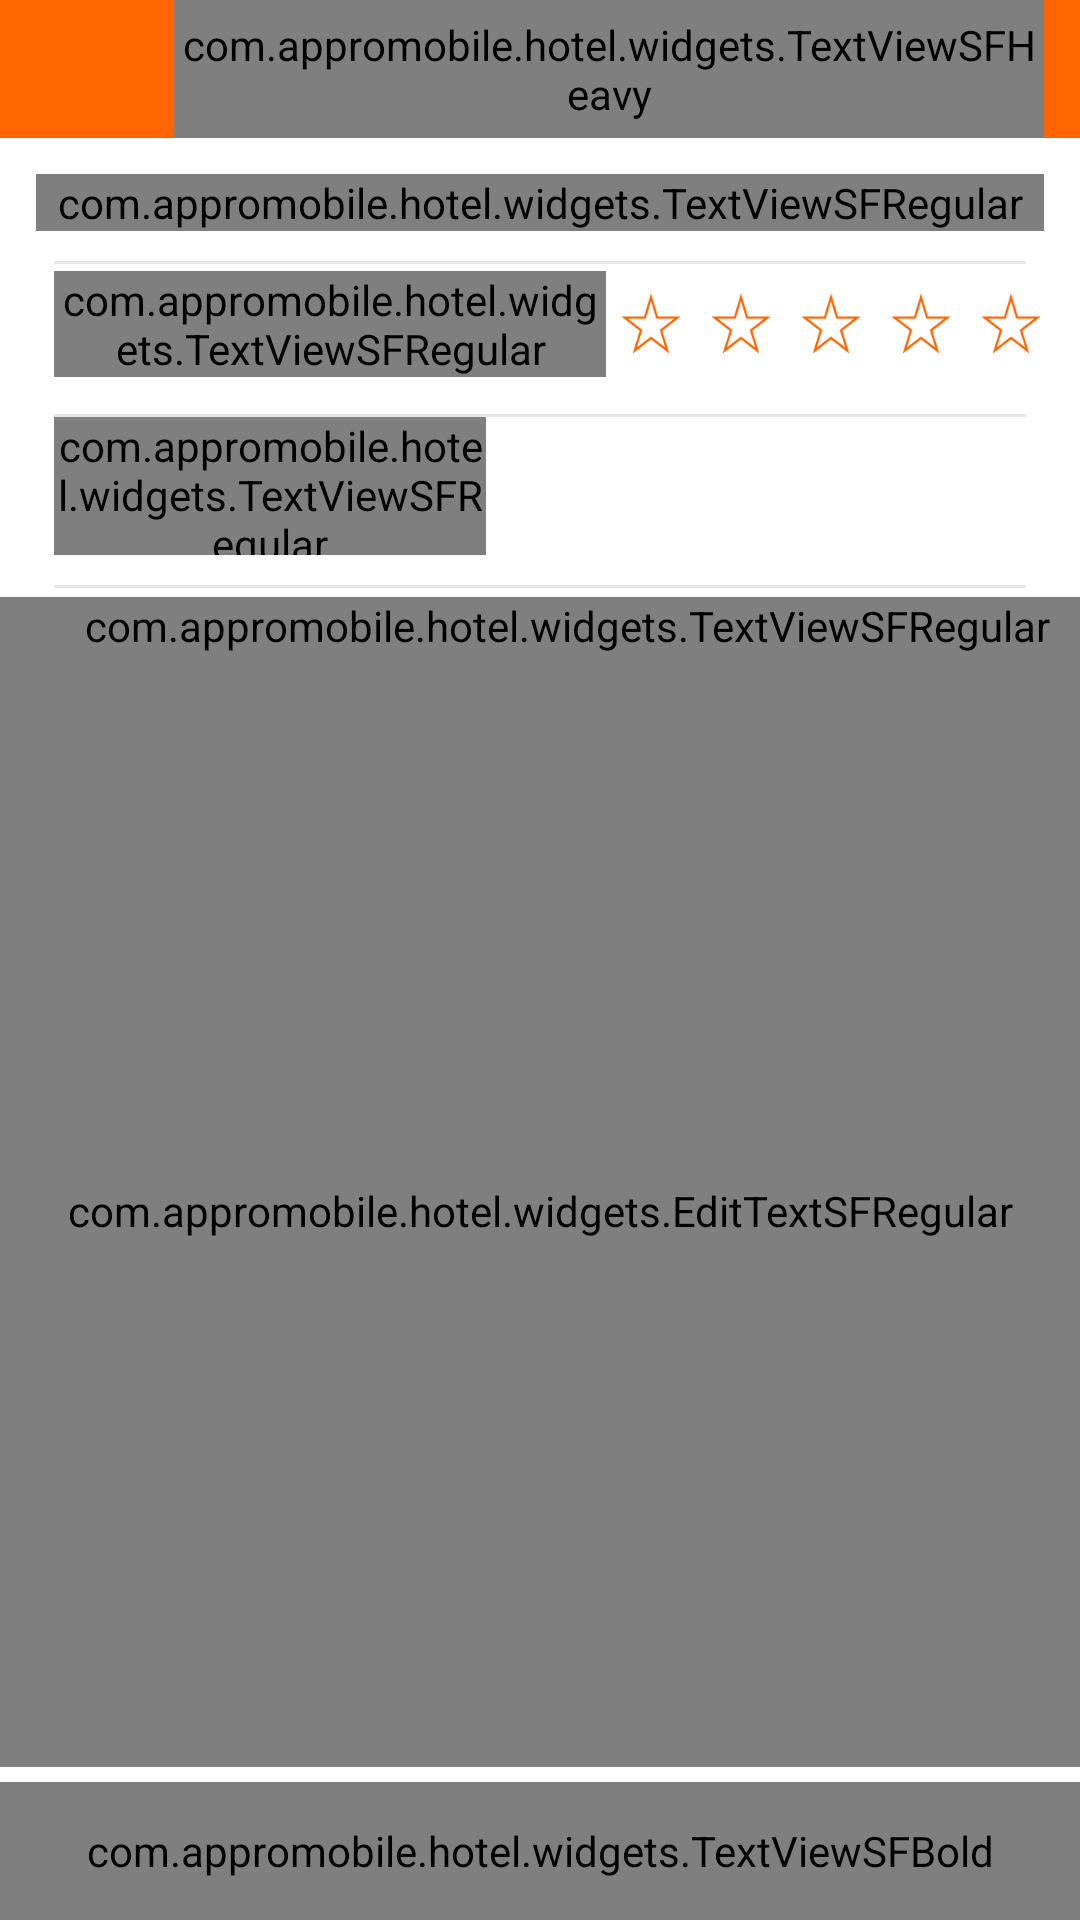

Icons on this 1080w x 1920h Android screen, each with its box as (x1, y1, x2, y2):
review star: (621, 294, 681, 354), (711, 294, 771, 354), (801, 294, 861, 354), (891, 294, 951, 354), (981, 294, 1041, 354)
